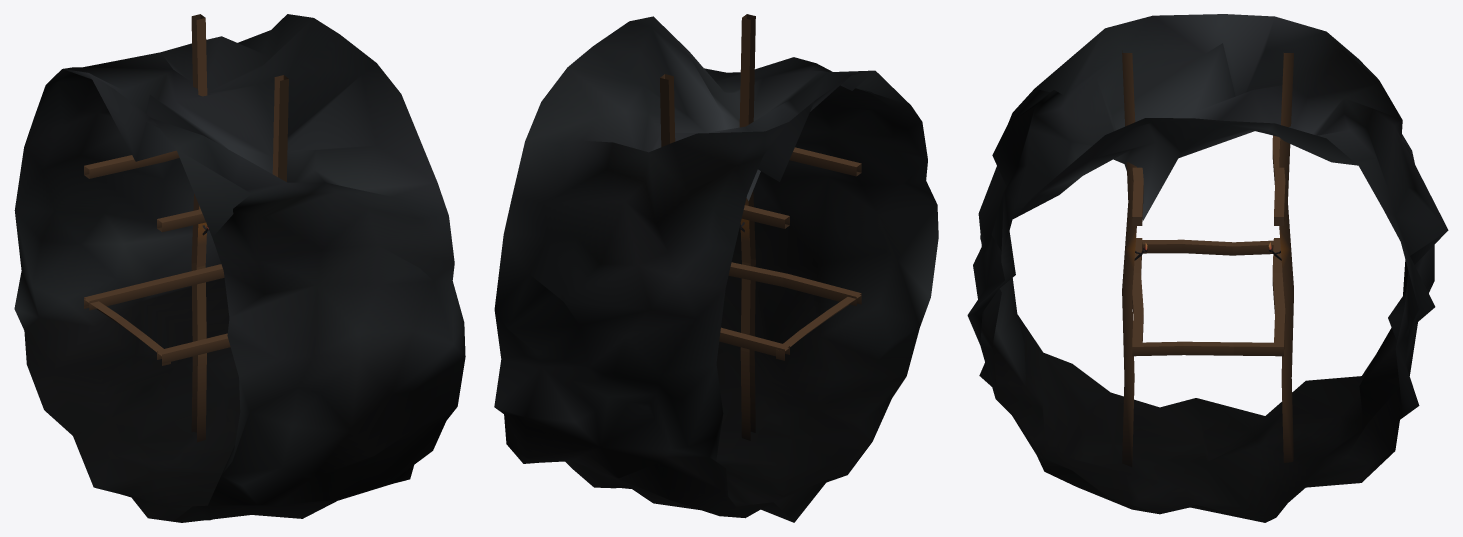
File: wallsLvl3_1.fbx
3 views of the same model, side by side, from view 1: azimuth 30°, elevation 25°; view 2: azimuth 150°, elevation 25°; view 3: azimuth 270°, elevation 25° (orthographic). The views are drawn at different scales.
Visible parts, largest first — view 1: wallLvl3_1; view 2: wallLvl3_1; view 3: wallLvl3_1.
Boxes of the visible parts, box(x1,y1,x2,y2) form: wallLvl3_1: box(14, 14, 465, 522); wallLvl3_1: box(494, 14, 938, 522); wallLvl3_1: box(967, 14, 1448, 522).
Bounding box in the file's own units: 5000 × 9576 × 9510.
